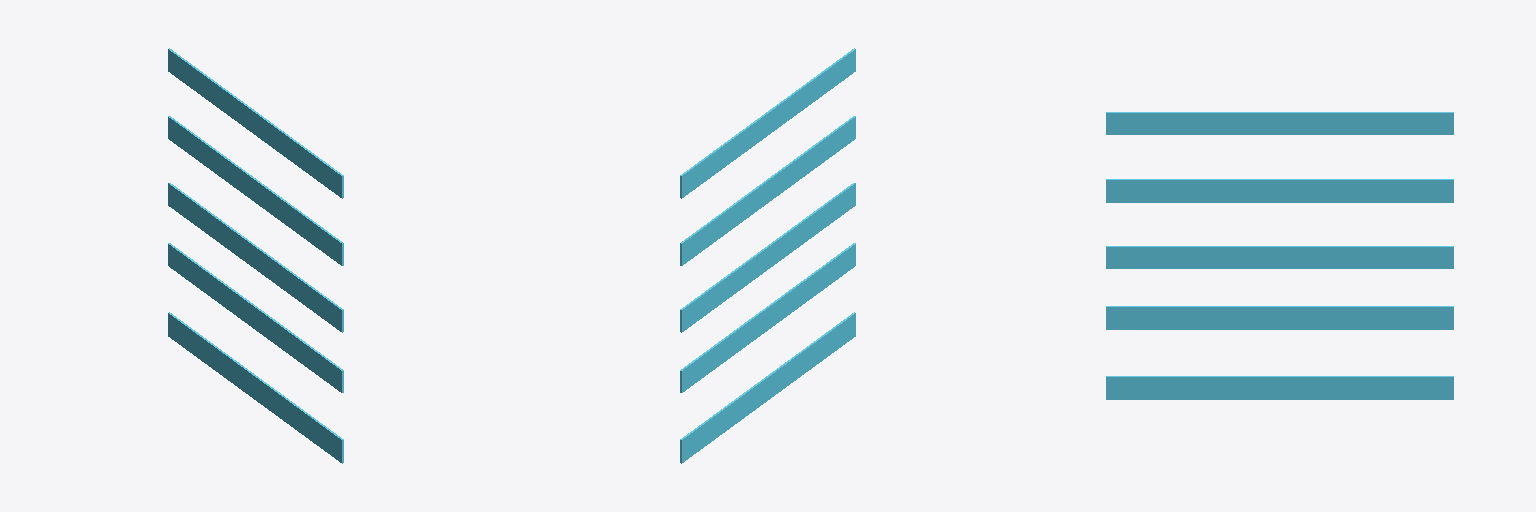
3 renders of one model, left to right at view 1: azimuth 30°, elevation 25°; view 2: azimuth 150°, elevation 25°; view 3: azimuth 270°, elevation 25°, orthographic.
Visible parts, largest first — view 1: 立方体; view 2: 立方体; view 3: 立方体.
Part boxes in pixels (x1,y1,x2,y2): 立方体: (168,48,343,463); 立方体: (680,48,855,463); 立方体: (1106,112,1453,399).
Size of the model in its own units: 0.0235 by 3.08 by 3.39.
Materials: 1 (1 with a texture image).